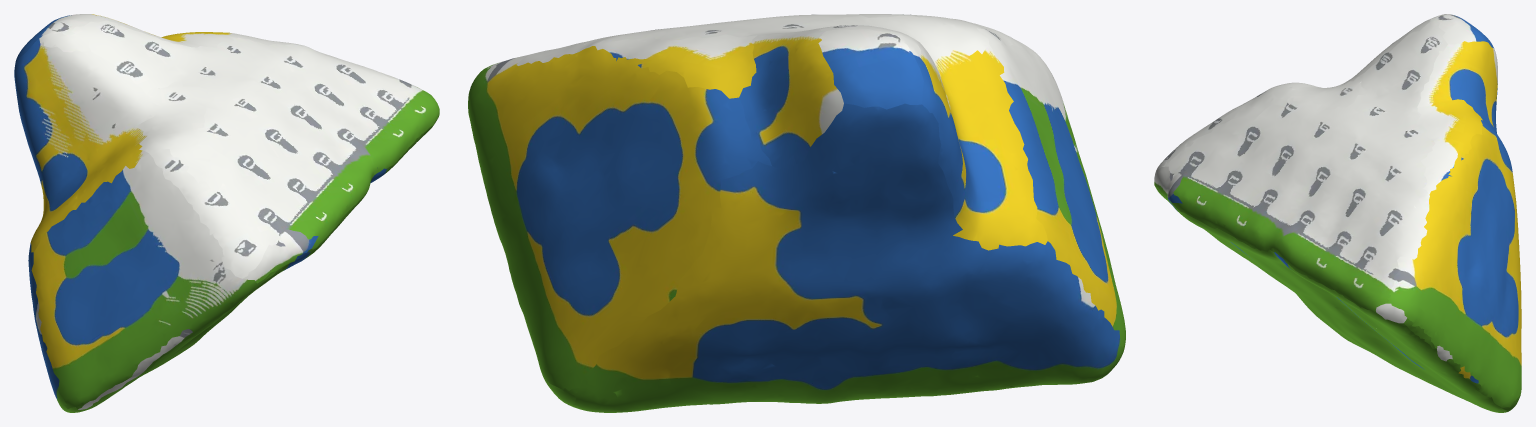
The model's file is icetower-xxl.glb.
3 views of the same model, side by side, from view 1: azimuth 30°, elevation 25°; view 2: azimuth 150°, elevation 25°; view 3: azimuth 270°, elevation 25° (orthographic). The views are drawn at different scales.
Parts seen in each view (by area): view 1: geometry_0; view 2: geometry_0; view 3: geometry_0.
Boxes of the visible parts, <box> form: geometry_0: <box>14,14,439,412</box>; geometry_0: <box>468,14,1125,412</box>; geometry_0: <box>1154,14,1521,412</box>.
Bounding box in the file's own units: 5.96 × 4.15 × 4.57.
1 material, 1 textured.
